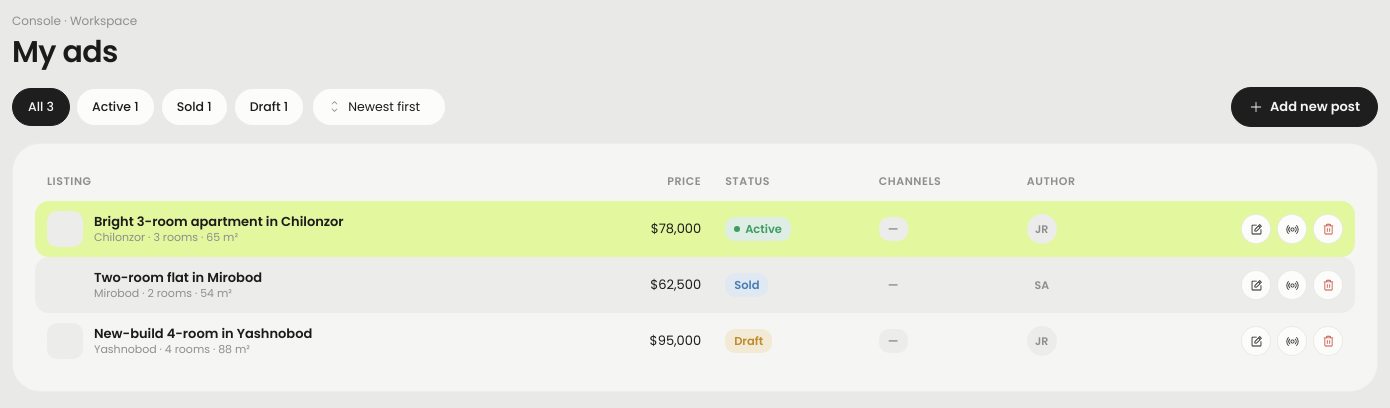
Scenario: MyAdsScreen — populated › filters rows by stage via the segmented control, client-side, never changing the query args
Click the button "Sold 1" at (194, 107), box [161,88,228,126]
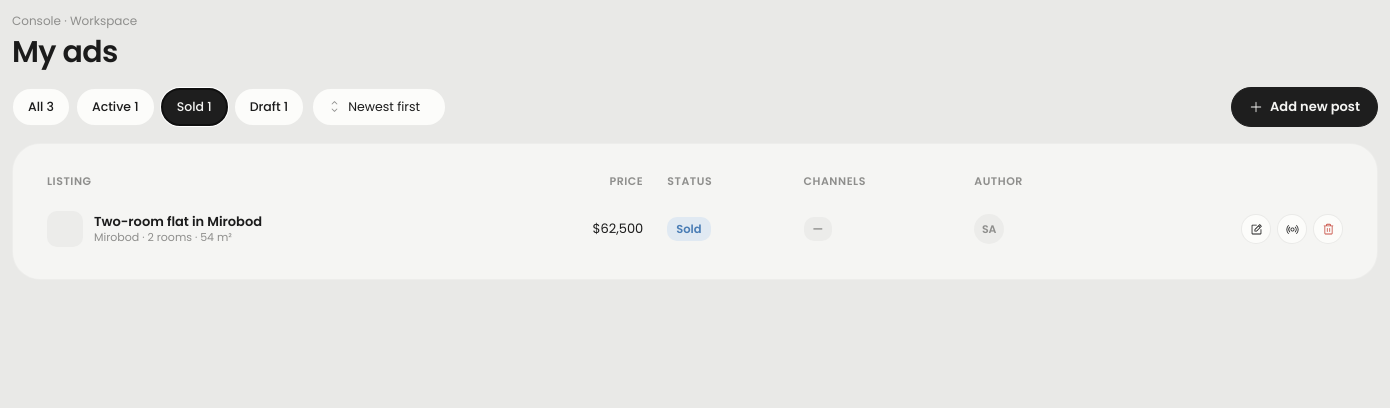
Expected: the text "Two-room flat in Mirobod" is shown, [94,214,262,230]
Now the button "Bright 3-room apartment in Chilonzor" is gone
